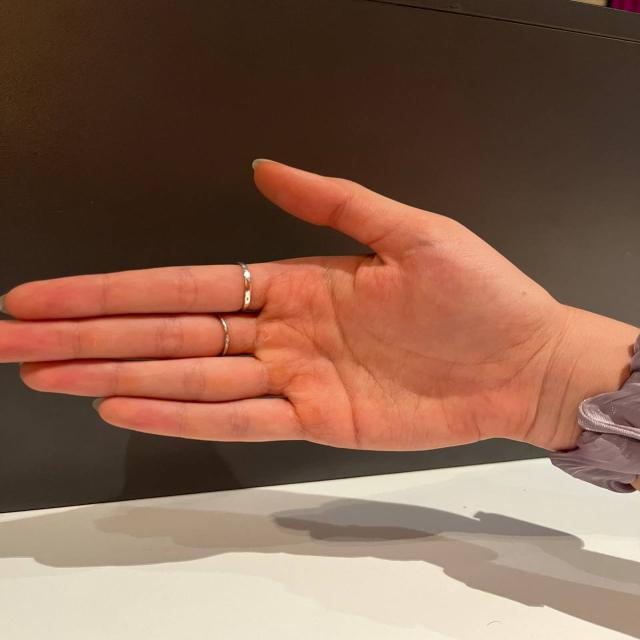v: (7, 132, 522, 490)
